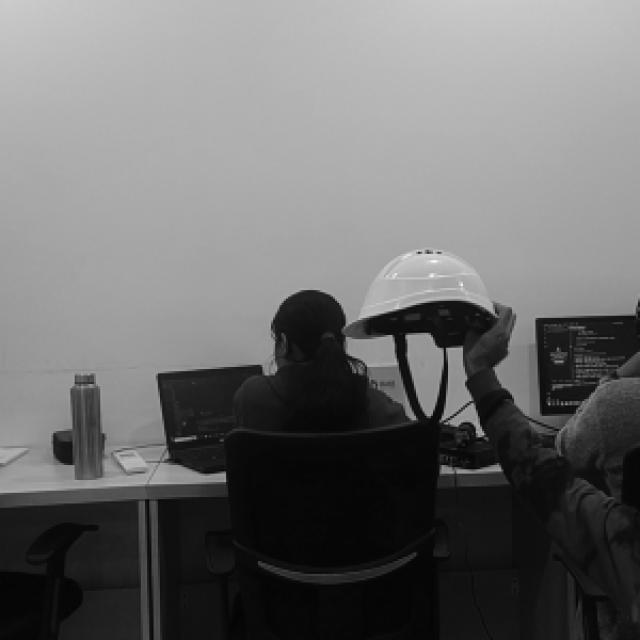safety_helmet: (340, 246, 494, 342)
